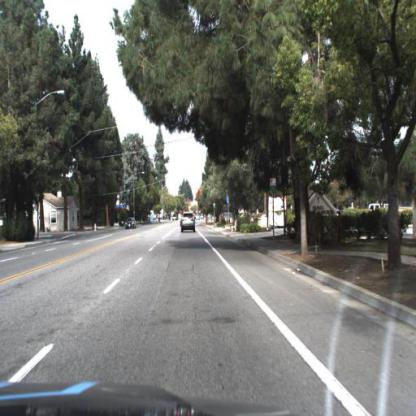car: (179, 210, 197, 235), (123, 215, 139, 234)
